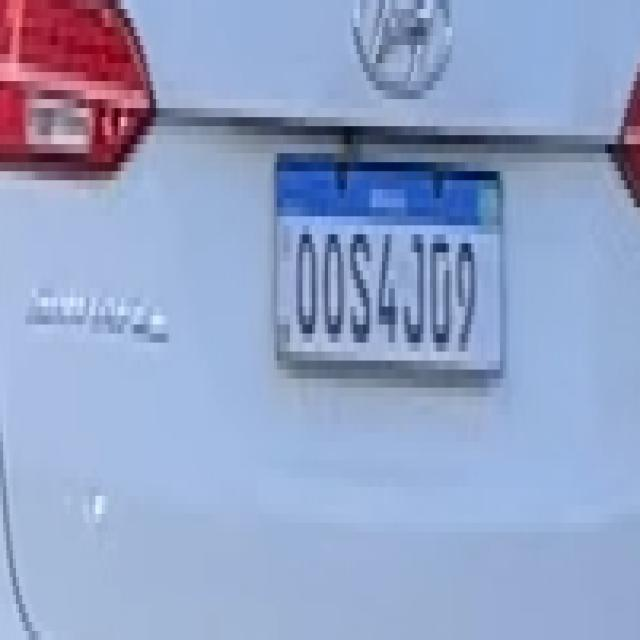Placa_mercosul_carro: (274, 152, 505, 385)
